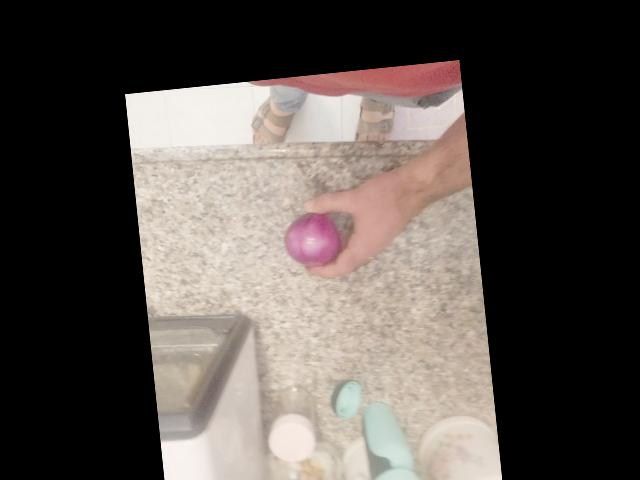onion: (174, 331, 233, 391)
